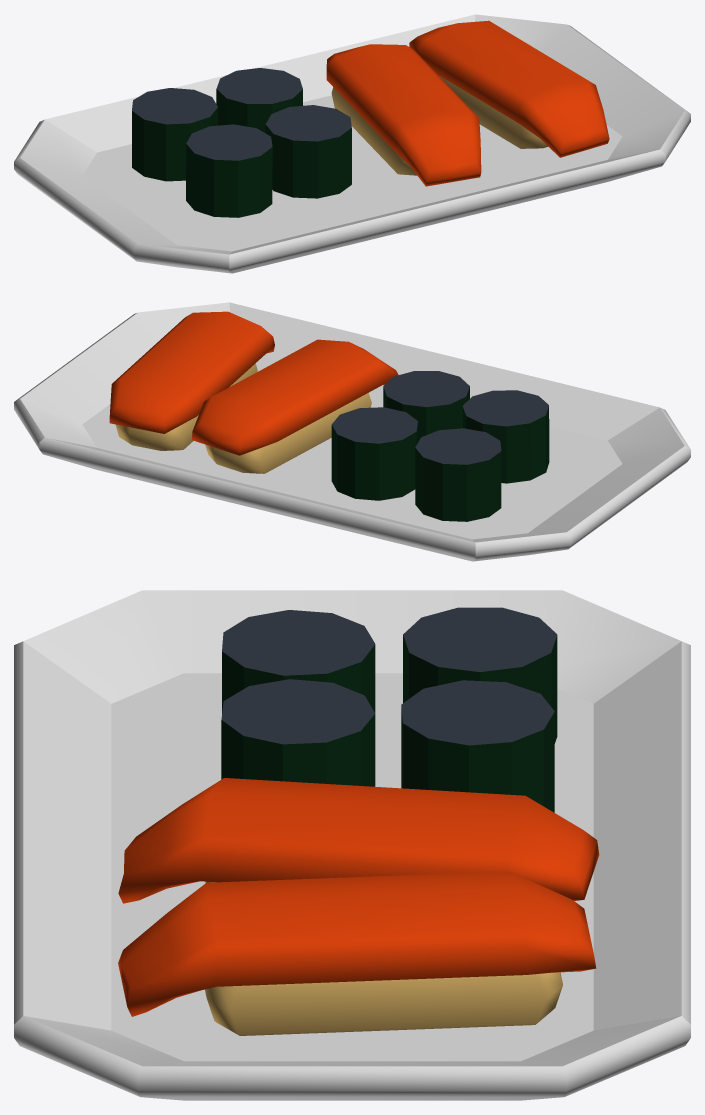
The model's file is Sushi_Plate.fbx.
The picture shows the model from 3 angles, top to bottom: view 1: azimuth 30°, elevation 25°; view 2: azimuth 150°, elevation 25°; view 3: azimuth 270°, elevation 25°; orthographic projection. The views are drawn at different scales.
Visible parts, largest first — view 1: Plate, RiceShape2, RiceShape1, Sushi_Roll2, Sushi_Roll3, Sushi_Roll, Sushi_Roll1; view 2: Plate, RiceShape1, RiceShape2, Sushi_Roll, Sushi_Roll1, Sushi_Roll2, Sushi_Roll3; view 3: Plate, RiceShape2, RiceShape1, Sushi_Roll1, Sushi_Roll3, Sushi_Roll, Sushi_Roll2.
Part boxes in pixels (<box>): Plate: <box>14,14,690,273</box>; RiceShape2: <box>409,20,609,157</box>; RiceShape1: <box>326,44,481,186</box>; Sushi_Roll2: <box>186,124,272,217</box>; Sushi_Roll3: <box>265,105,351,198</box>; Sushi_Roll: <box>132,88,217,181</box>; Sushi_Roll1: <box>216,68,302,133</box>; Plate: <box>14,302,690,561</box>; RiceShape1: <box>192,339,398,473</box>; RiceShape2: <box>109,311,274,450</box>; Sushi_Roll: <box>415,428,501,521</box>; Sushi_Roll1: <box>331,407,417,500</box>; Sushi_Roll2: <box>462,390,549,483</box>; Sushi_Roll3: <box>383,371,469,442</box>; Plate: <box>14,590,690,1100</box>; RiceShape2: <box>118,871,596,1035</box>; RiceShape1: <box>118,778,599,903</box>; Sushi_Roll1: <box>401,680,554,812</box>; Sushi_Roll3: <box>221,679,375,786</box>; Sushi_Roll: <box>403,607,557,743</box>; Sushi_Roll2: <box>222,610,375,713</box>.
Size of the model in its own units: 14.7 by 2.13 by 8.68.
